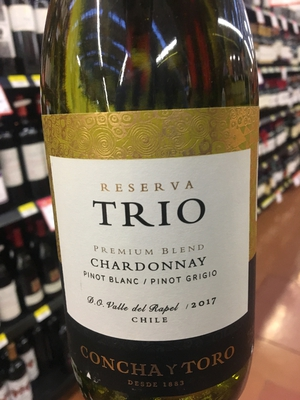trio chardonnay: (34, 3, 267, 400)
